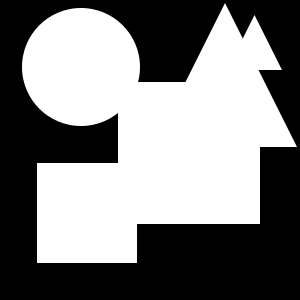circle: (118, 82, 260, 224), (37, 163, 137, 263)
rectangle: (22, 8, 140, 126)
triangle: (153, 3, 297, 147), (227, 15, 282, 70)
